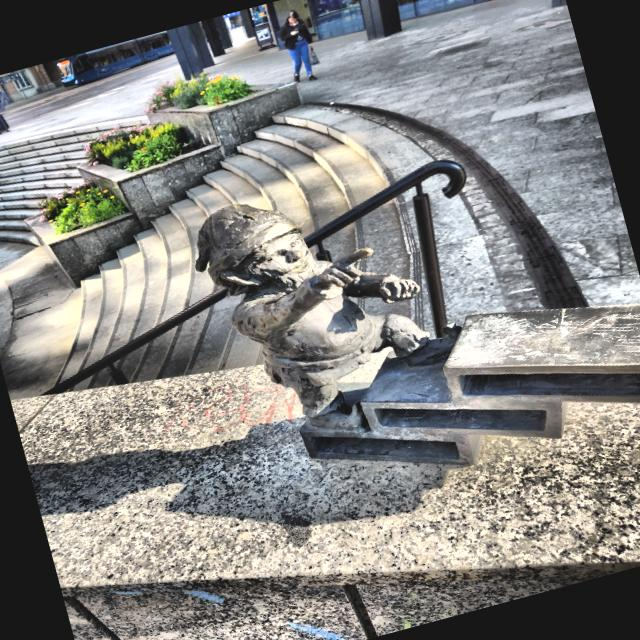Elementek: (196, 204, 640, 464)
